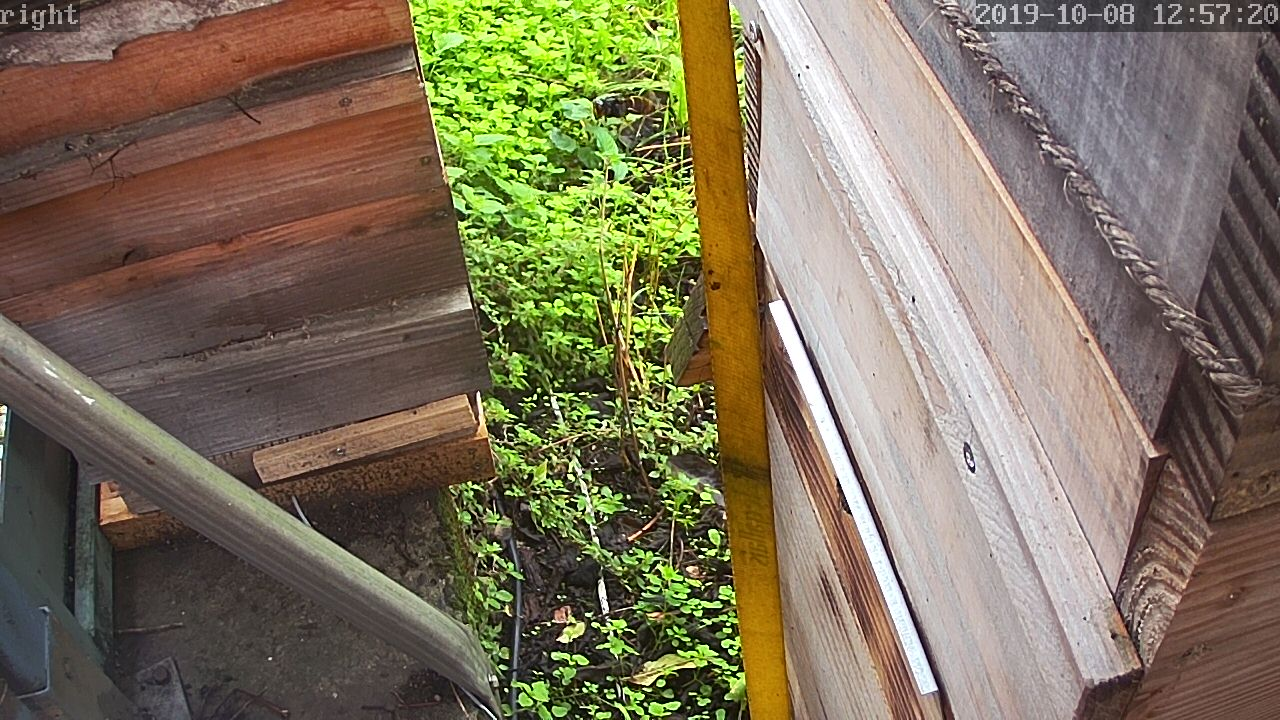bee: (828, 470, 858, 529)
hornet: (580, 87, 663, 126)
